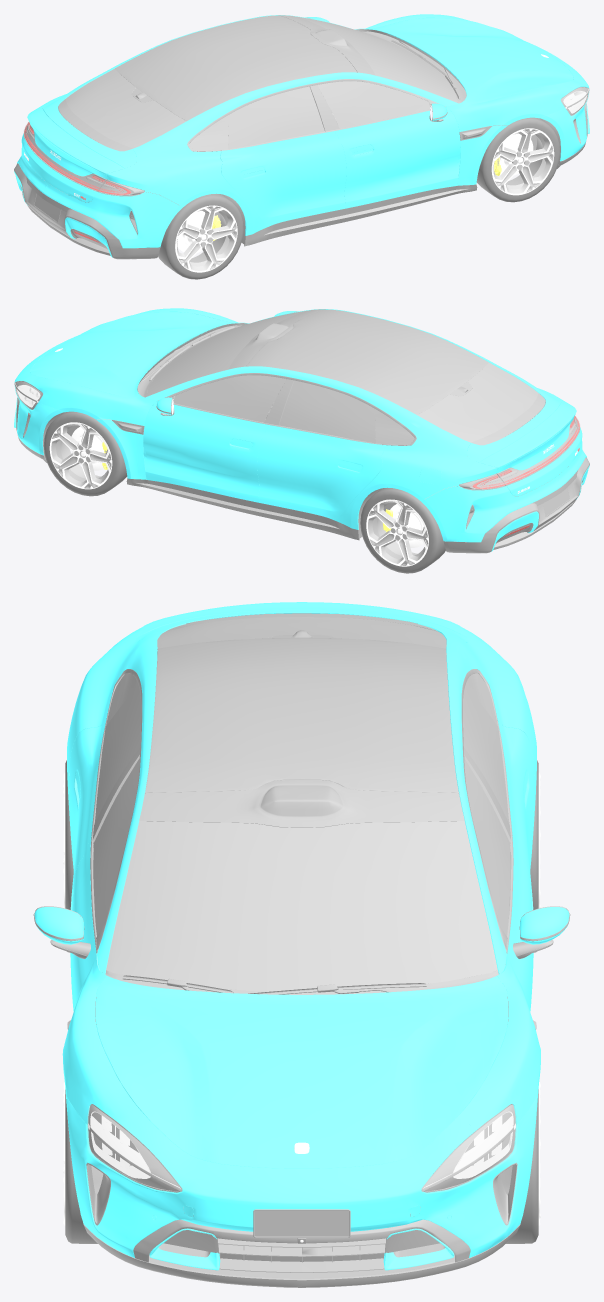
File: SU7_blue.glb
3 renders of one model, top to bottom at view 1: azimuth 30°, elevation 25°; view 2: azimuth 150°, elevation 25°; view 3: azimuth 270°, elevation 25°, orthographic. The views are drawn at different scales.
Parts seen in each view (by area): view 1: Xiaomi_1, Xiaomi_5, Xiaomi_2, Xiaomi_wheelBR, Xiaomi_wheelFR, Xiaomi_brakeLightsOFF, Xiaomi_3; view 2: Xiaomi_1, Xiaomi_5, Xiaomi_2, Xiaomi_wheelBL, Xiaomi_wheelFL, Xiaomi_brakeLightsOFF, Xiaomi_3; view 3: Xiaomi_1, Xiaomi_5, Xiaomi_2, Xiaomi_3, Xiaomi_wheelFR, Xiaomi_wheelFL, Xiaomi_wheelBR, Xiaomi_wheelBL.
Boxes of the visible parts, left/top/right/bottom form: Xiaomi_1: left=14, top=14, right=589, bottom=257; Xiaomi_5: left=14, top=15, right=588, bottom=259; Xiaomi_2: left=65, top=16, right=457, bottom=151; Xiaomi_wheelBR: left=158, top=193, right=243, bottom=279; Xiaomi_wheelFR: left=476, top=117, right=560, bottom=202; Xiaomi_brakeLightsOFF: left=24, top=122, right=131, bottom=194; Xiaomi_3: left=24, top=89, right=588, bottom=197; Xiaomi_1: left=14, top=308, right=589, bottom=551; Xiaomi_5: left=15, top=309, right=589, bottom=553; Xiaomi_2: left=146, top=310, right=538, bottom=445; Xiaomi_wheelBL: left=360, top=487, right=445, bottom=573; Xiaomi_wheelFL: left=43, top=411, right=127, bottom=496; Xiaomi_brakeLightsOFF: left=472, top=416, right=579, bottom=488; Xiaomi_3: left=15, top=383, right=577, bottom=493; Xiaomi_1: left=34, top=602, right=569, bottom=1270; Xiaomi_5: left=34, top=613, right=569, bottom=1287; Xiaomi_2: left=93, top=617, right=510, bottom=991; Xiaomi_3: left=88, top=1111, right=515, bottom=1188; Xiaomi_wheelFR: left=63, top=1082, right=97, bottom=1243; Xiaomi_wheelFL: left=506, top=1082, right=540, bottom=1243; Xiaomi_wheelBR: left=63, top=760, right=73, bottom=909; Xiaomi_wheelBL: left=530, top=760, right=540, bottom=909.
Size of the model in its own units: 5 by 1.45 by 2.2.
